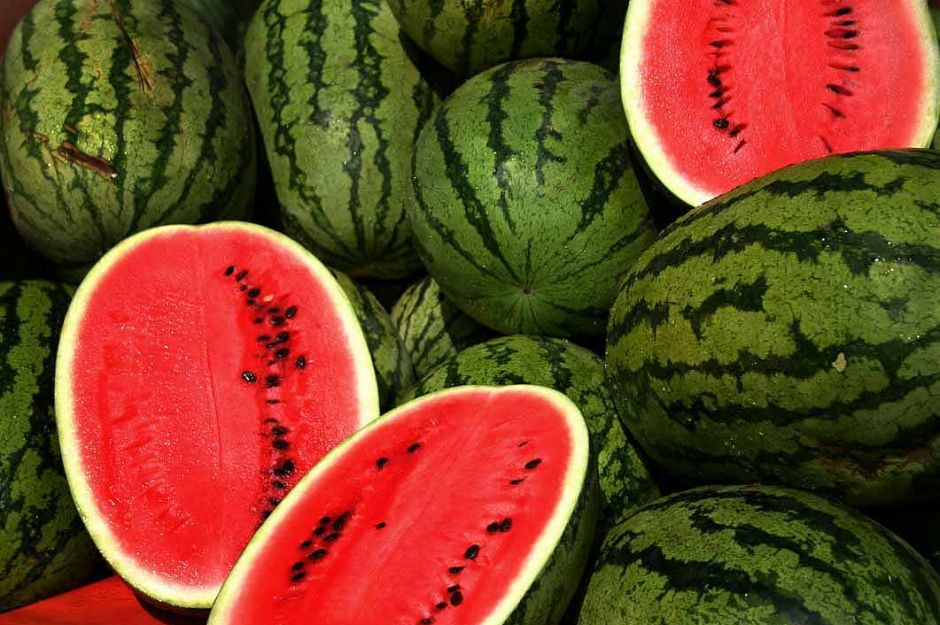Watermelon: (48, 219, 373, 598), (615, 145, 940, 504), (193, 382, 600, 625), (402, 54, 671, 338), (1, 1, 259, 256)
